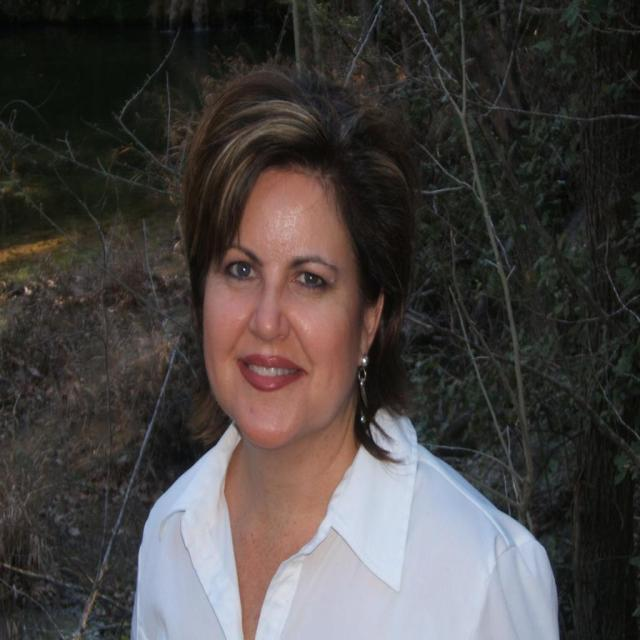Face: (197, 152, 386, 445)
